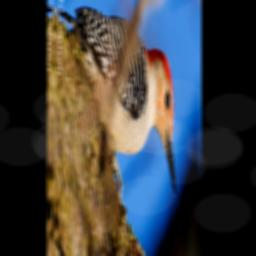Woodpecker: (54, 0, 182, 199)
